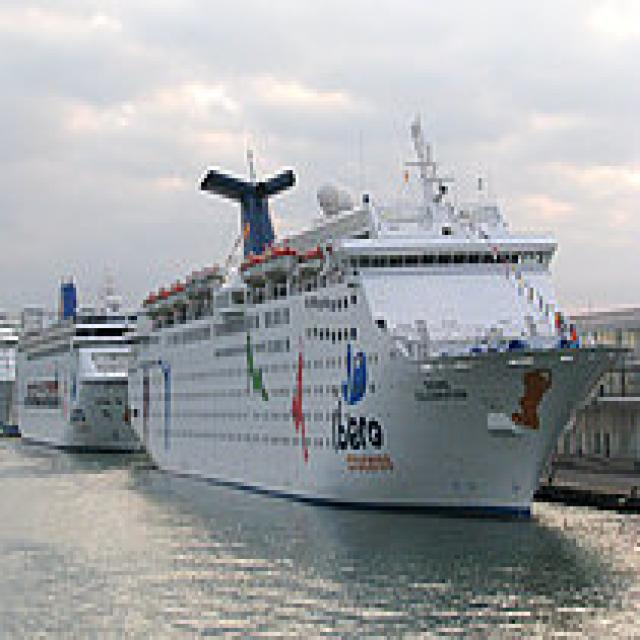Cruise: (116, 110, 628, 522), (9, 267, 140, 454)
